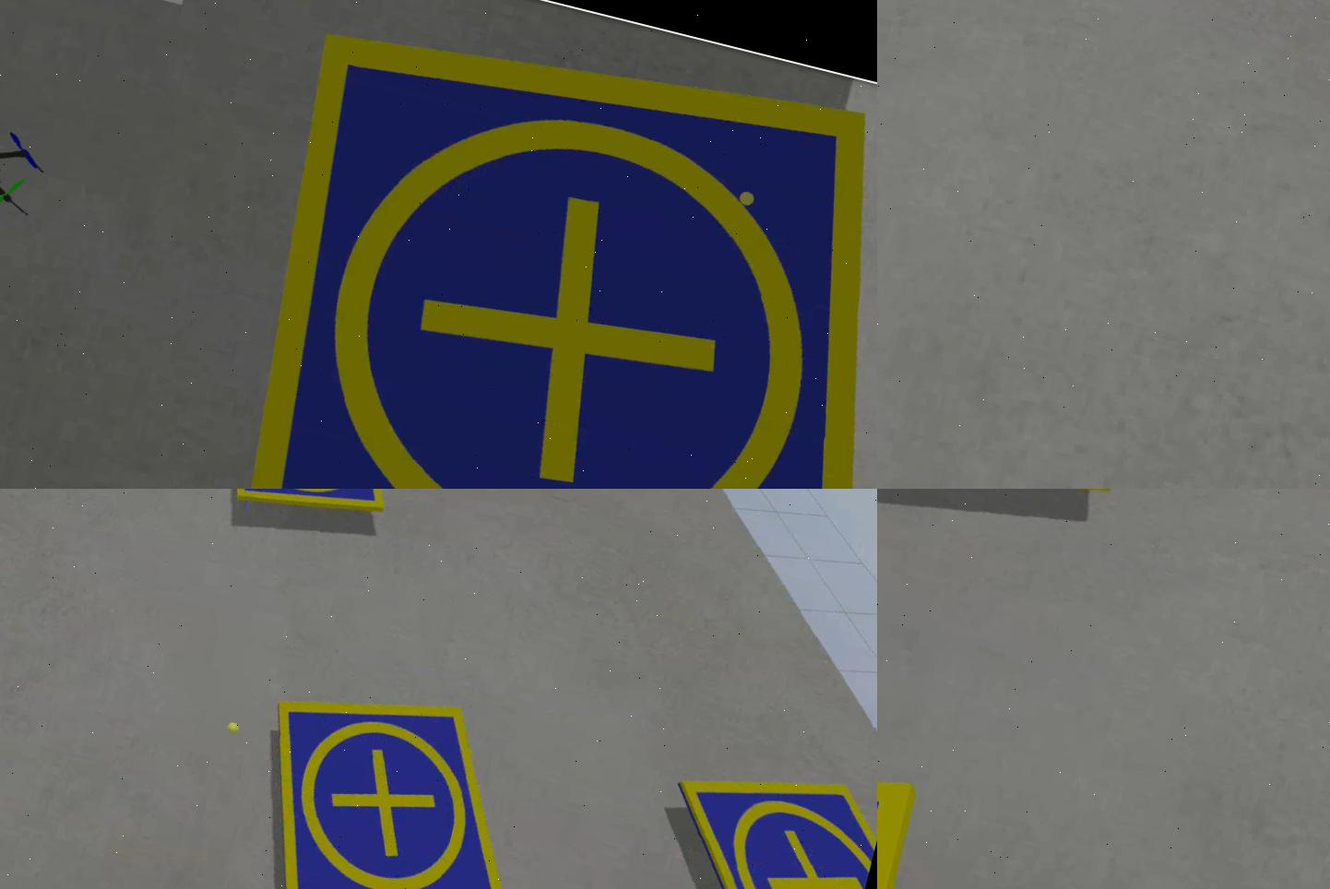small_base: (189, 1, 878, 490), (234, 670, 557, 889), (628, 748, 878, 889), (878, 490, 1140, 542), (215, 490, 407, 534)
